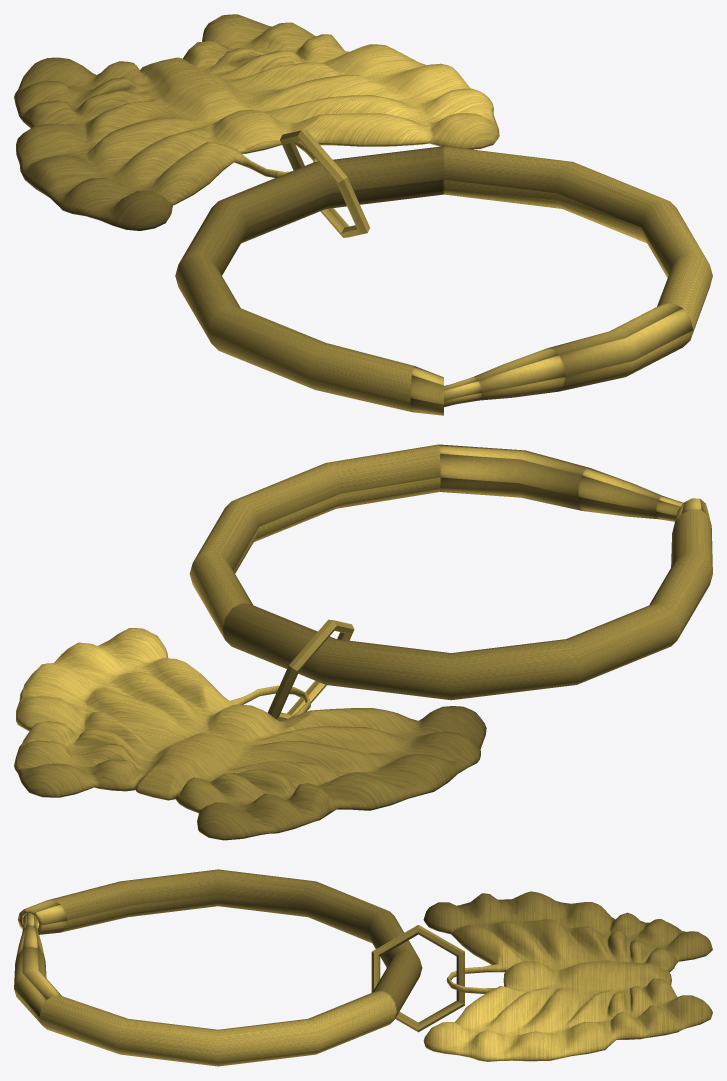
File: deanna hoops earring.fbx
The picture shows the model from 3 angles, top to bottom: view 1: azimuth 30°, elevation 25°; view 2: azimuth 150°, elevation 25°; view 3: azimuth 270°, elevation 25°; orthographic projection. The views are drawn at different scales.
Visible parts, largest first — view 1: butterflies, bigring, smallring; view 2: butterflies, bigring, smallring; view 3: butterflies, bigring, smallring.
Part boxes in pixels (box(x1,y1,x2,y2)): butterflies: box(14, 14, 499, 230); bigring: box(175, 146, 712, 415); smallring: box(280, 130, 369, 237); butterflies: box(14, 628, 486, 840); bigring: box(189, 444, 712, 700); smallring: box(267, 619, 354, 721); butterflies: box(423, 891, 712, 1061); bigring: box(14, 869, 422, 1066); smallring: box(371, 925, 464, 1032).
Size of the model in its own units: 0.8678 by 0.2089 by 1.47.
Materials: 1 (1 with a texture image).
